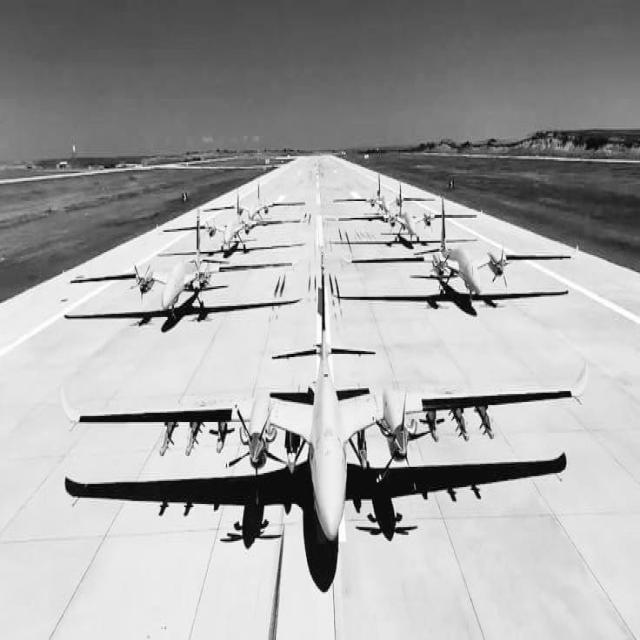iha: (0, 261, 578, 540)
